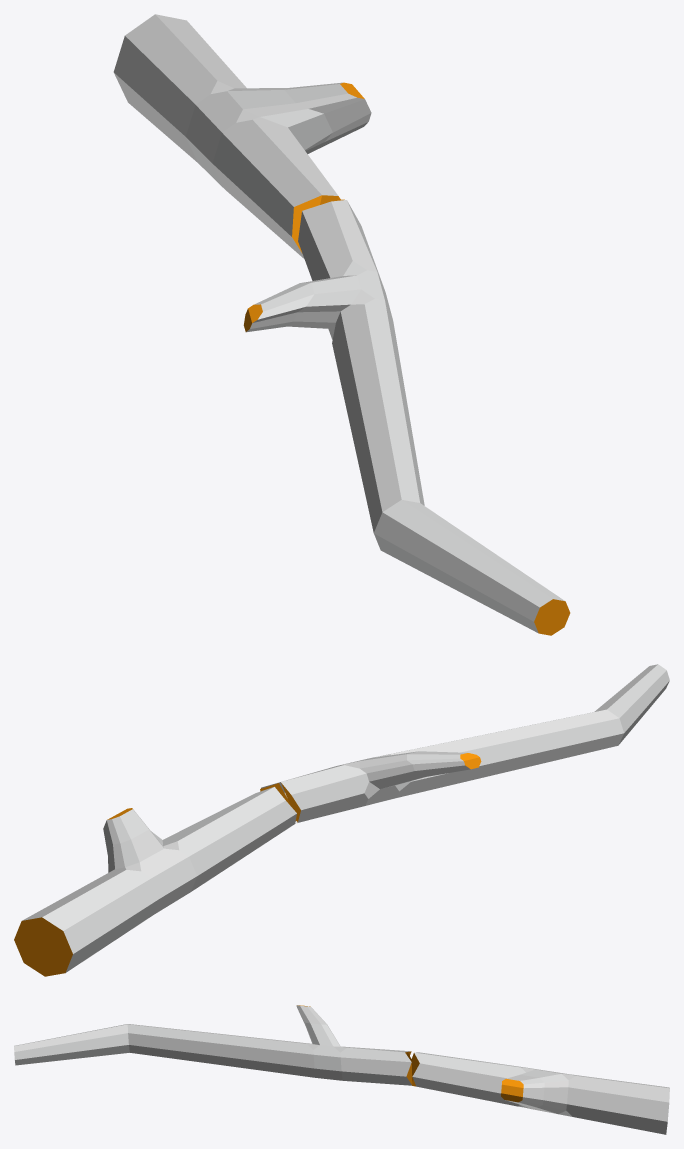
File: Stick_20.fbx
3 renders of one model, top to bottom at view 1: azimuth 30°, elevation 25°; view 2: azimuth 150°, elevation 25°; view 3: azimuth 270°, elevation 25°, orthographic. The views are drawn at different scales.
Parts seen in each view (by area): view 1: Circle.232, Circle.228; view 2: Circle.228, Circle.232; view 3: Circle.232, Circle.228.
Part boxes in pixels (bbox=[...]): Circle.232: bbox=[243, 200, 570, 635]; Circle.228: bbox=[113, 14, 371, 258]; Circle.228: bbox=[14, 783, 296, 976]; Circle.232: bbox=[260, 664, 669, 823]; Circle.232: bbox=[14, 1005, 412, 1085]; Circle.228: bbox=[407, 1052, 669, 1134].
Bounding box in the file's own units: 14.72 × 4.81 × 44.13.
